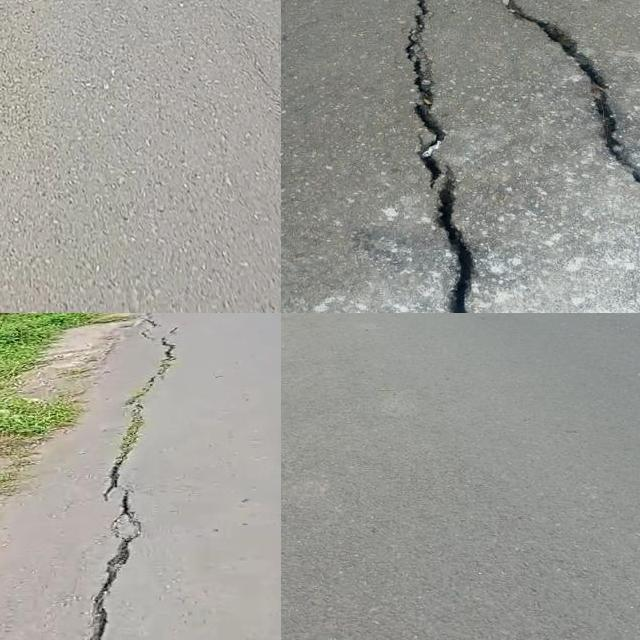Memanjang: (479, 0, 640, 253), (79, 324, 194, 640), (399, 0, 480, 313)
